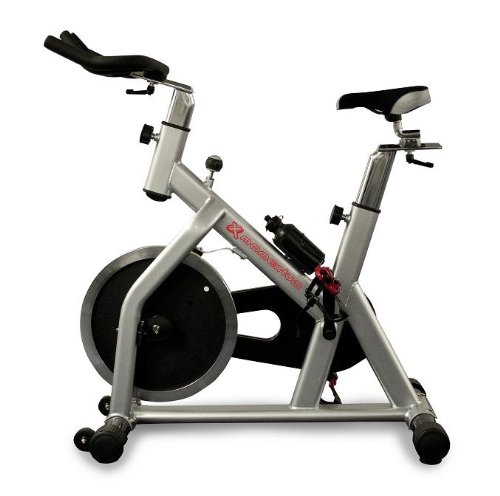gym_bike: (34, 29, 459, 474)
